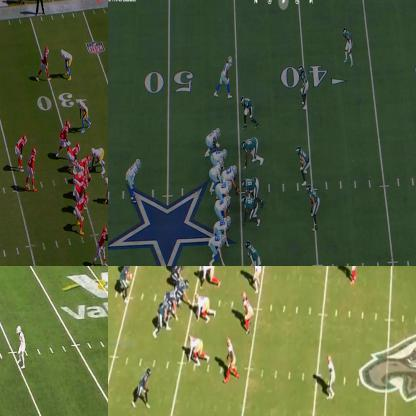CENTER: (225, 164, 239, 194), (177, 281, 192, 308), (78, 154, 90, 171)
DB: (225, 336, 239, 378), (16, 324, 26, 369), (299, 64, 308, 107), (327, 356, 335, 400), (345, 26, 354, 65), (61, 49, 72, 77), (346, 266, 360, 280)
LB: (308, 185, 320, 228), (242, 290, 252, 337), (296, 145, 308, 182), (78, 98, 91, 131), (242, 99, 255, 130), (249, 266, 262, 293), (245, 240, 259, 265)
QB: (117, 266, 131, 304), (26, 148, 38, 189), (210, 161, 221, 191)
SKILL: (217, 54, 234, 96), (137, 368, 152, 409), (126, 159, 140, 200), (210, 233, 227, 265), (94, 228, 107, 265), (76, 198, 88, 237), (15, 136, 25, 174), (38, 49, 50, 80), (214, 217, 233, 234)
